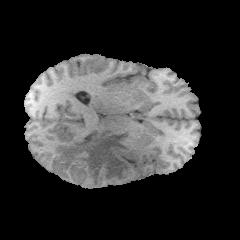glioma: (53, 130, 131, 185)
